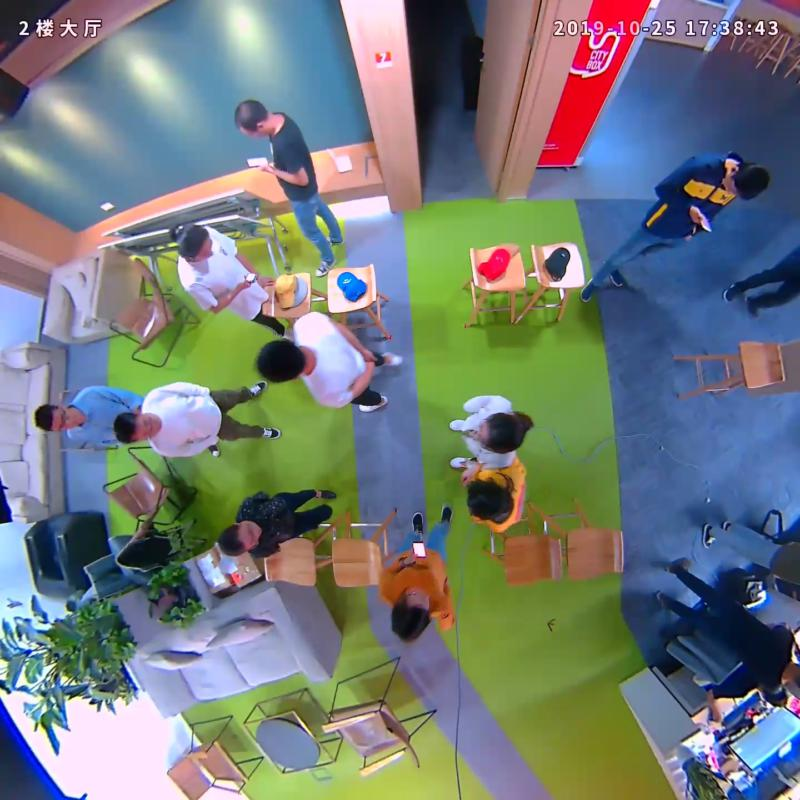head: (255, 339, 308, 382), (391, 587, 430, 641), (477, 413, 525, 455), (472, 481, 515, 525), (722, 162, 770, 201), (218, 520, 262, 556), (173, 223, 213, 261), (114, 411, 160, 444), (233, 100, 271, 138), (34, 405, 76, 433)
